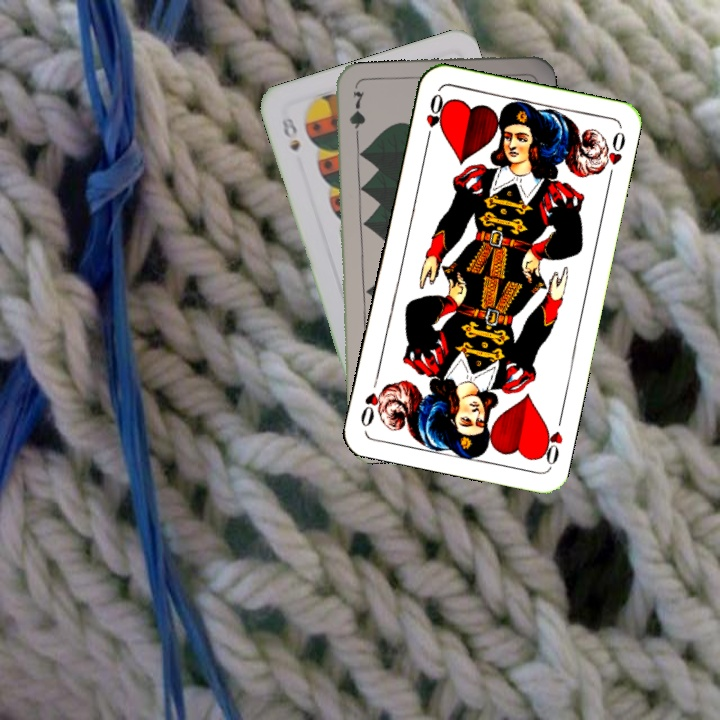G7: (345, 88, 364, 147)
HO: (535, 410, 566, 468), (421, 89, 447, 147)
S8: (278, 113, 303, 155)
